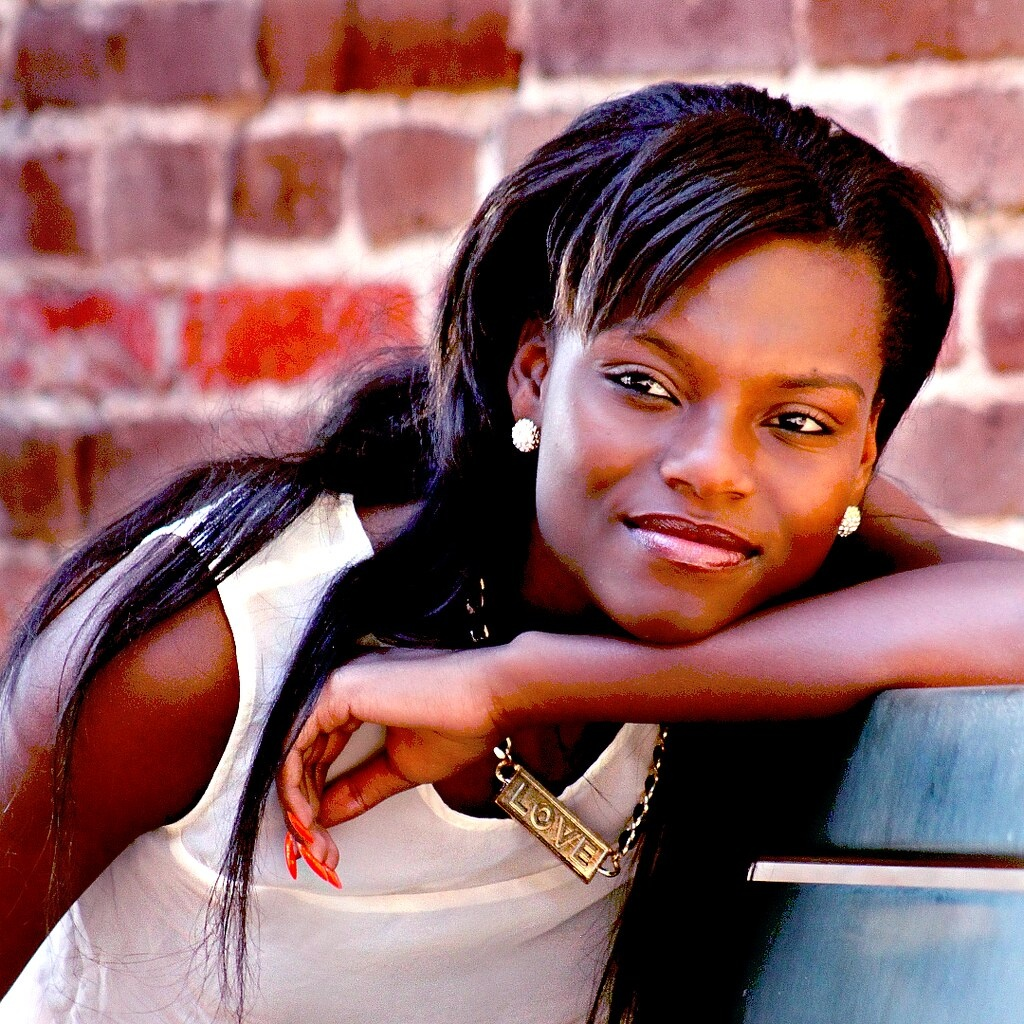without_mask: (516, 185, 915, 644)
